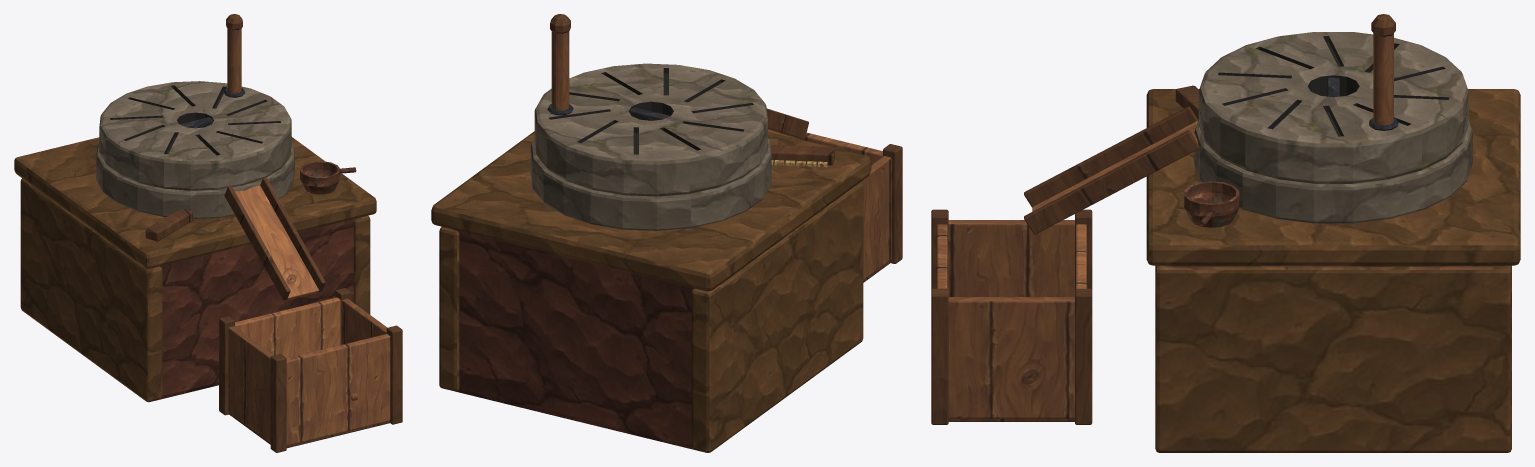
File: rb_grain_quern.glb
3 views of the same model, side by side, from view 1: azimuth 30°, elevation 25°; view 2: azimuth 150°, elevation 25°; view 3: azimuth 270°, elevation 25° (orthographic). The views are drawn at different scales.
Visible parts, largest first — view 1: model; view 2: model; view 3: model.
Boxes of the visible parts, left/top/right/bottom form: model: left=14, top=14, right=402, bottom=452; model: left=431, top=14, right=902, bottom=452; model: left=931, top=14, right=1520, bottom=452.
Size of the model in its own units: 0.86 by 1.03 by 1.36.
13 materials, 12 textured.
